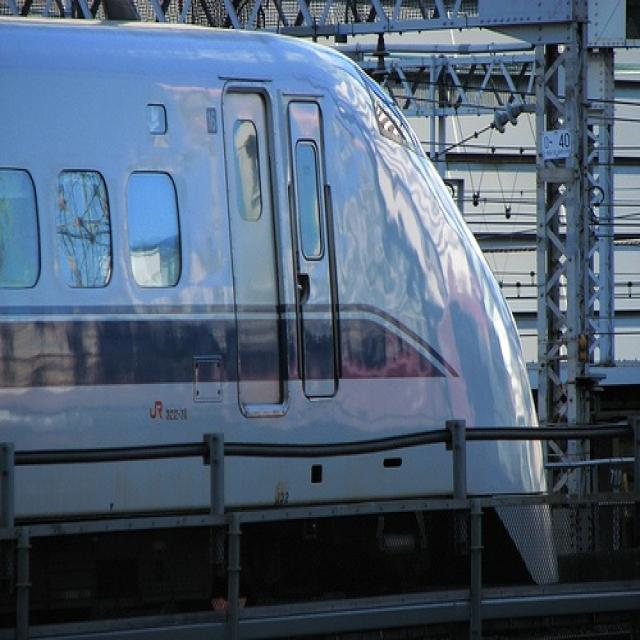train: (1, 15, 557, 582)
